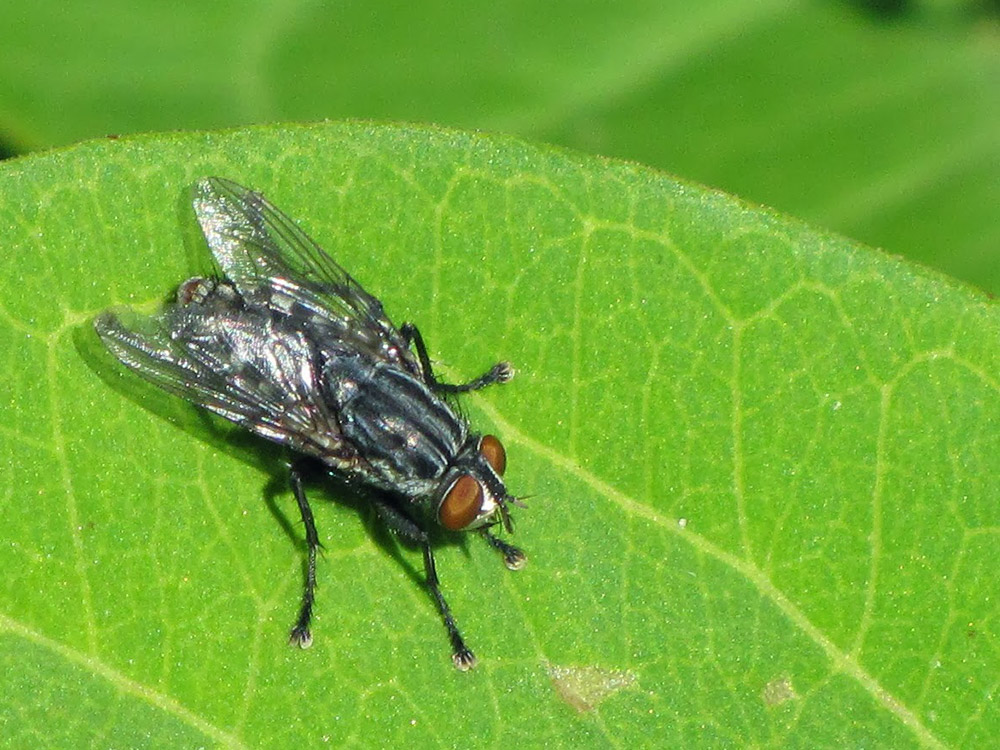phorid fly: (76, 161, 564, 675)
